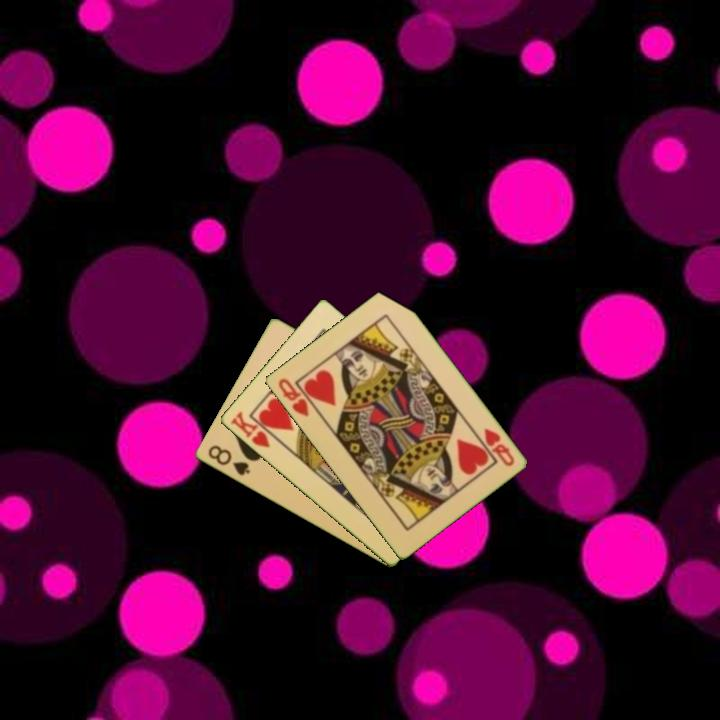8s: (204, 442, 253, 479)
Kh: (226, 408, 281, 451)
Qh: (274, 375, 320, 420), (480, 425, 517, 469)
